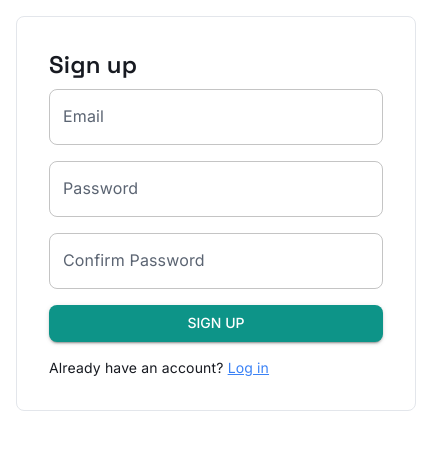
Test: SignupPage › shows a validation error when the confirm password does not match
Type "valid@example.com" into the field labelled "Email" at x=216, y=117, box [49,89,383,145]
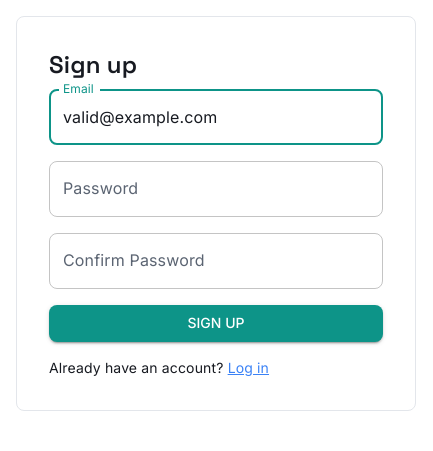
Type "password123" into the password field labelled "Password" at x=216, y=189, box [49,161,383,217]
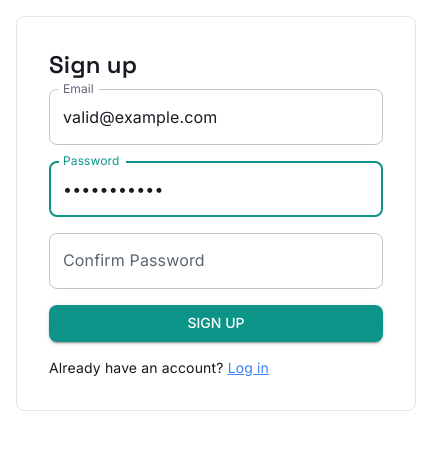
Type "password456" into the password field labelled "Confirm Password" at x=216, y=261, box [49,233,383,289]
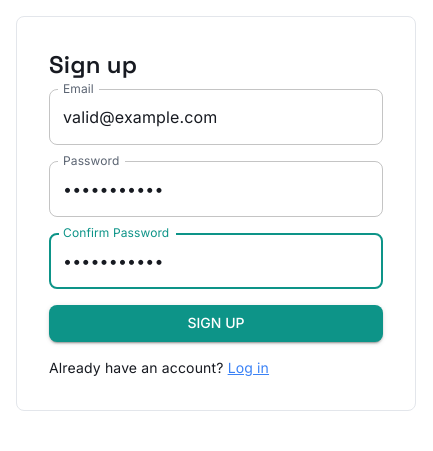
Click the button "Sign up" at x=216, y=324, box [49,305,383,342]
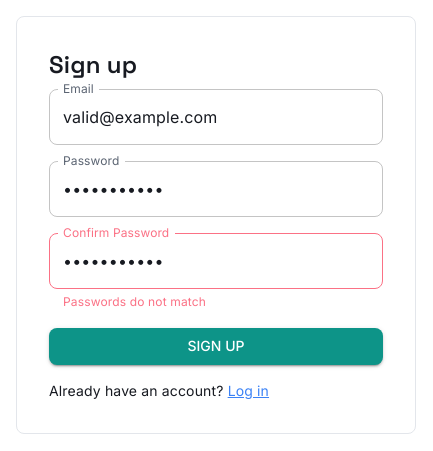
Expected: the text "Passwords do not match" is shown, [63,294,206,309]
